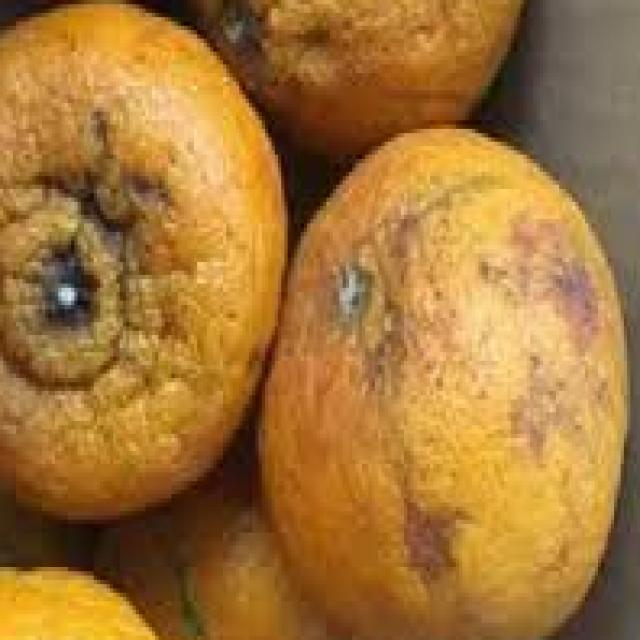inorganic: (0, 13, 339, 539), (283, 117, 616, 621), (193, 9, 604, 151)
